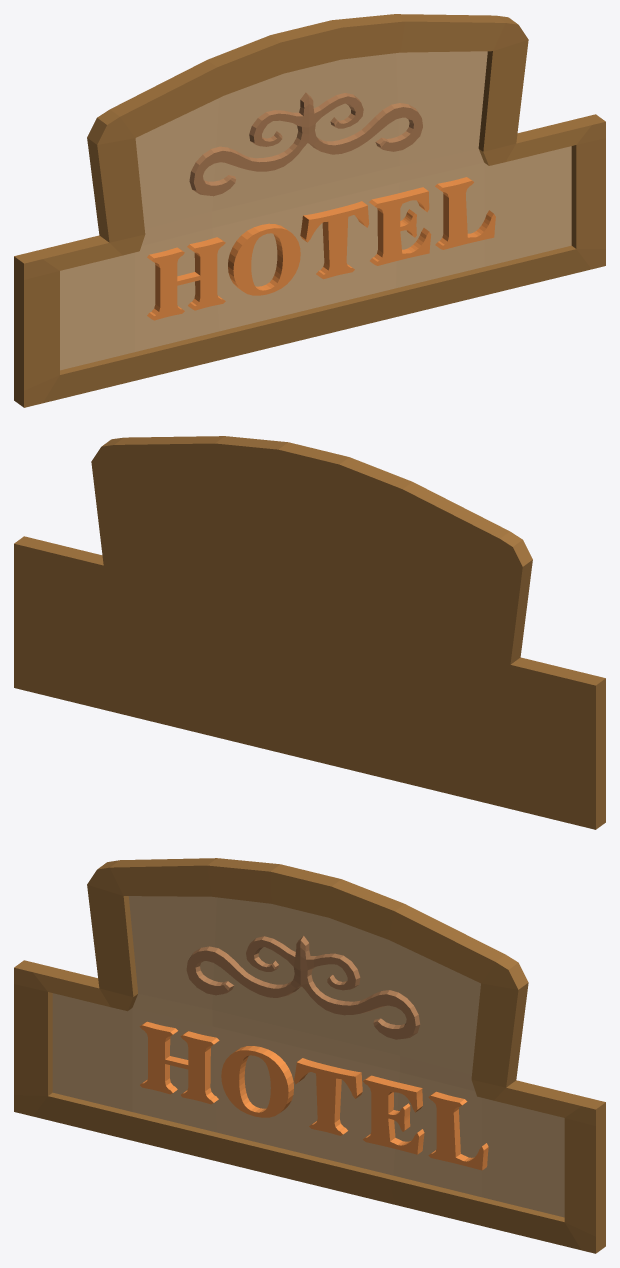
File: Signboard_Hotel.fbx
3 views of the same model, one above another, from view 1: azimuth 30°, elevation 25°; view 2: azimuth 150°, elevation 25°; view 3: azimuth 330°, elevation 25° (orthographic).
Parts seen in each view (by area): view 1: Signboard_Hotel; view 2: Signboard_Hotel; view 3: Signboard_Hotel.
Part boxes in pixels (x1,y1,x2,y2): Signboard_Hotel: [14, 14, 605, 407]; Signboard_Hotel: [14, 436, 605, 829]; Signboard_Hotel: [14, 858, 605, 1253].
Size of the model in its own units: 410 by 13.57 by 204.
